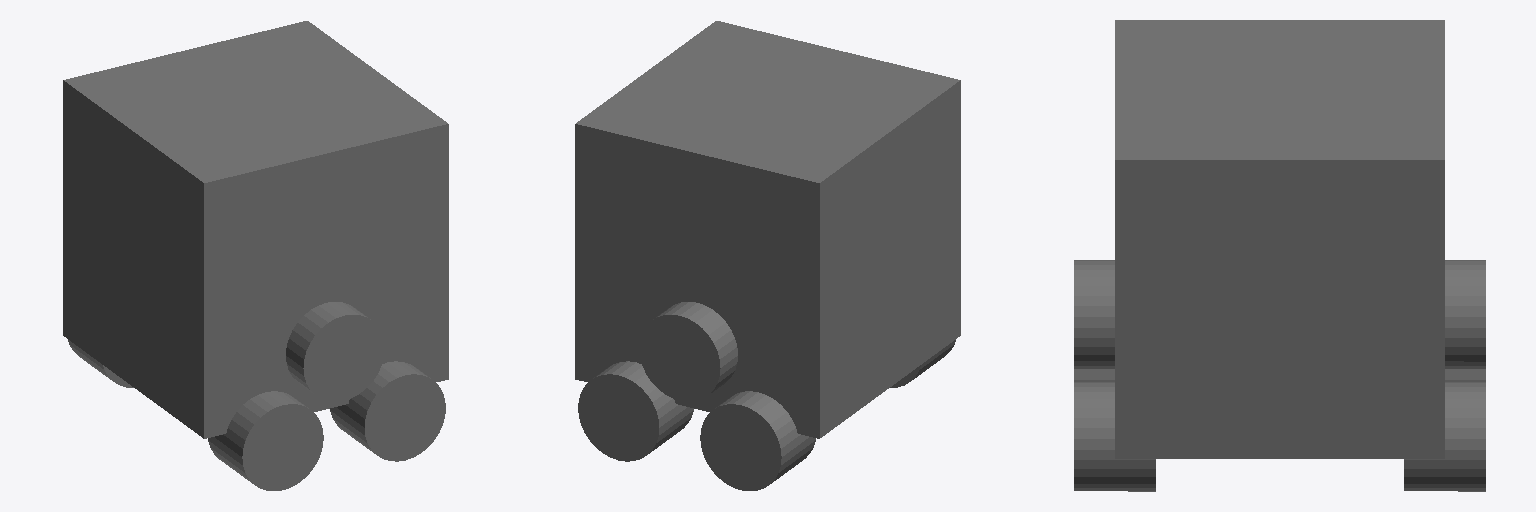
The robot description file, URDF, robot "tanky":
<?xml version="1.0"?>
<robot name="tanky">
    <link name="Base_Body">
        <visual>
            <geometry>
                <box size="3 3 3"/>
            </geometry>
            <origin xyz="0 0 2"/>
            <material name="gray">
                <color rgba="0.5 0.5 0.5 1.0"/>
            </material>
        </visual>
    </link>

    <link name="L1_Wheel">
        <visual>
            <geometry>
                <cylinder length="0.75" radius="0.5"/>
            </geometry>
            <origin xyz="0 1.5 0" rpy="1.57 0 0"/>
            <material name="gray">
                <color rgba="0.5 0.5 0.5 1.0"/>
            </material>
        </visual>
    </link>

    <joint name="L1_Wheel_Move" type="revolute">
        <parent link="Base_Body"/>
        <child link="L1_Wheel"/>
        <origin xyz="0.75 0 0.375" rpy="0 0 0"/>
        <axis xyz="0 1 0"/>
        <limit lower="-3.14" upper="3.14" effort="10.0" velocity="0.5"/>
    </joint>

	<link name="L2_Wheel">
        <visual>
            <geometry>
                <cylinder length="0.75" radius="0.5"/>
            </geometry>
            <origin xyz="0 1.5 0" rpy="1.57 0 0"/>
            <material name="gray">
                <color rgba="0.5 0.5 0.5 1.0"/>
            </material>
        </visual>
    </link>

    <joint name="L2_Wheel_Move" type="revolute">
        <parent link="Base_Body"/>
        <child link="L2_Wheel"/>
        <origin xyz="-0.75 0 0.375" rpy="0 0 0"/>
        <axis xyz="0 1 0"/>
        <limit lower="-3.14" upper="3.14" effort="10.0" velocity="0.5"/>
    </joint>

	<link name="L3_Wheel">
        <visual>
            <geometry>
                <cylinder length="0.75" radius="0.5"/>
            </geometry>
            <origin xyz="0 1.5 0" rpy="1.57 0 0"/>
            <material name="gray">
                <color rgba="0.5 0.5 0.5 1.0"/>
            </material>
        </visual>
    </link>

    <joint name="L3_Wheel_Move" type="revolute">
        <parent link="Base_Body"/>
        <child link="L3_Wheel"/>
        <origin xyz="0 0 1.25" rpy="0 0 0"/>
        <axis xyz="0 1 0"/>
        <limit lower="-3.14" upper="3.14" effort="10.0" velocity="0.5"/>
    </joint>

	<link name="R1_Wheel">
        <visual>
            <geometry>
                <cylinder length="0.75" radius="0.5"/>
            </geometry>
            <origin xyz="0 -1.5 0" rpy="1.57 0 0"/>
            <material name="gray">
                <color rgba="0.5 0.5 0.5 1.0"/>
            </material>
        </visual>
    </link>

    <joint name="R1_Wheel_Move" type="revolute">
        <parent link="Base_Body"/>
        <child link="R1_Wheel"/>
        <origin xyz="0.75 0 0.375" rpy="0 0 0"/>
        <axis xyz="0 1 0"/>
        <limit lower="-3.14" upper="3.14" effort="10.0" velocity="0.5"/>
    </joint>

	<link name="R2_Wheel">
        <visual>
            <geometry>
                <cylinder length="0.75" radius="0.5"/>
            </geometry>
            <origin xyz="0 -1.5 0" rpy="1.57 0 0"/>
            <material name="gray">
                <color rgba="0.5 0.5 0.5 1.0"/>
            </material>
        </visual>
    </link>

    <joint name="R2_Wheel_Move" type="revolute">
        <parent link="Base_Body"/>
        <child link="R2_Wheel"/>
        <origin xyz="-0.75 0 0.375" rpy="0 0 0"/>
        <axis xyz="0 1 0"/>
        <limit lower="-3.14" upper="3.14" effort="10.0" velocity="0.5"/>
    </joint>

	<link name="R3_Wheel">
        <visual>
            <geometry>
                <cylinder length="0.75" radius="0.5"/>
            </geometry>
            <origin xyz="0 -1.5 0" rpy="1.57 0 0"/>
            <material name="gray">
                <color rgba="0.5 0.5 0.5 1.0"/>
            </material>
        </visual>
    </link>

    <joint name="R3_Wheel_Move" type="revolute">
        <parent link="Base_Body"/>
        <child link="R3_Wheel"/>
        <origin xyz="0 0 1.25" rpy="0 0 0"/>
        <axis xyz="0 1 0"/>
        <limit lower="-3.14" upper="3.14" effort="10.0" velocity="0.5"/>
    </joint>
</robot>

--- Facts derived from the render (not from the file) ---
Views: 3 orthographic renders of the robot side by side, from view 1: azimuth 30°, elevation 25°; view 2: azimuth 150°, elevation 25°; view 3: azimuth 270°, elevation 25°.
Robot: tanky — 7 links, 6 joints (6 revolute); root link Base_Body; default pose: every joint at zero.
Links seen in each view (by area): view 1: Base_Body, R2_Wheel, R1_Wheel, R3_Wheel; view 2: Base_Body, L2_Wheel, L1_Wheel, L3_Wheel; view 3: Base_Body, L1_Wheel, R1_Wheel, L3_Wheel, R3_Wheel, L2_Wheel, R2_Wheel.
Link boxes in pixels (x1,y1,x2,y2): Base_Body: [63, 21, 448, 438]; R2_Wheel: [208, 391, 323, 490]; R1_Wheel: [330, 361, 445, 461]; R3_Wheel: [286, 302, 384, 401]; Base_Body: [575, 21, 960, 438]; L2_Wheel: [700, 391, 815, 490]; L1_Wheel: [578, 361, 693, 461]; L3_Wheel: [639, 302, 737, 401]; Base_Body: [1115, 20, 1444, 458]; L1_Wheel: [1404, 382, 1485, 491]; R1_Wheel: [1074, 382, 1155, 491]; L3_Wheel: [1445, 260, 1485, 368]; R3_Wheel: [1074, 260, 1114, 368]; L2_Wheel: [1445, 369, 1485, 381]; R2_Wheel: [1074, 369, 1114, 381].
Size in the robot's own frame: 3 by 3.75 by 3.63 metres.
Geometry: primitives only (box / cylinder / sphere), no mesh files.
